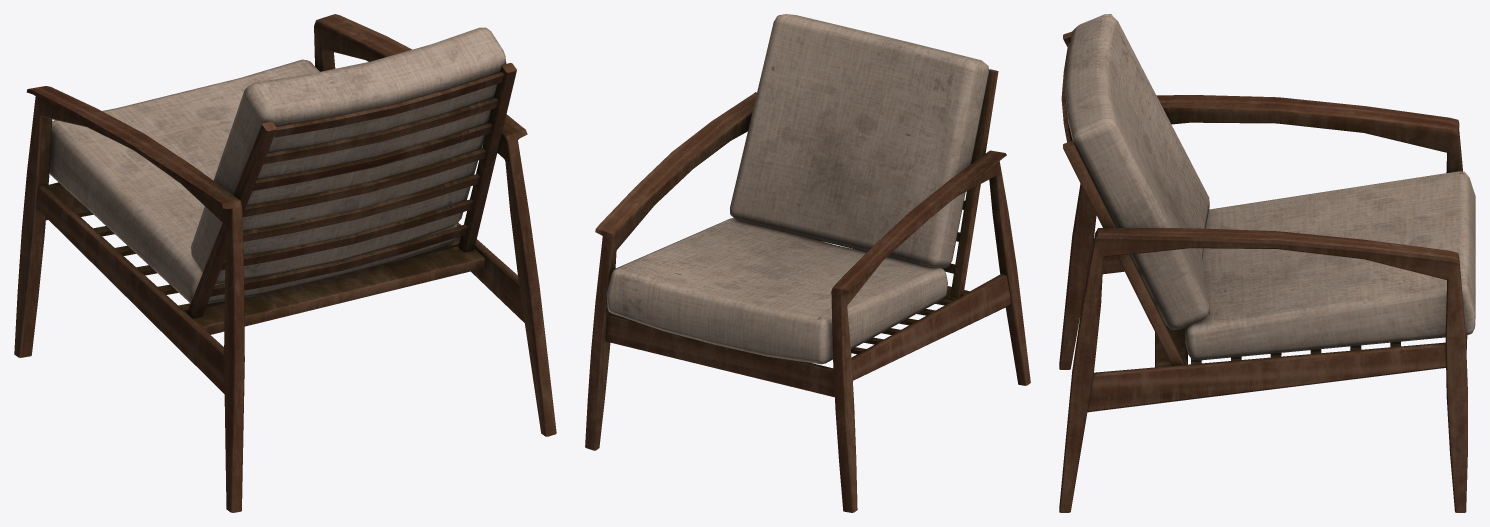
The model's file is guesChairStationary_1940s.glb.
3 renders of one model, left to right at view 1: azimuth 30°, elevation 25°; view 2: azimuth 150°, elevation 25°; view 3: azimuth 270°, elevation 25°, orthographic. The views are drawn at different scales.
Visible parts, largest first — view 1: Chair_low; view 2: Chair_low; view 3: Chair_low.
Part boxes in pixels (box(x1,y1,x2,y2)): Chair_low: box(14, 14, 556, 512); Chair_low: box(585, 14, 1030, 512); Chair_low: box(1059, 14, 1475, 512).
Size of the model in its own units: 0.79 by 0.9202 by 0.9314.
Materials: 1 (1 with a texture image).
